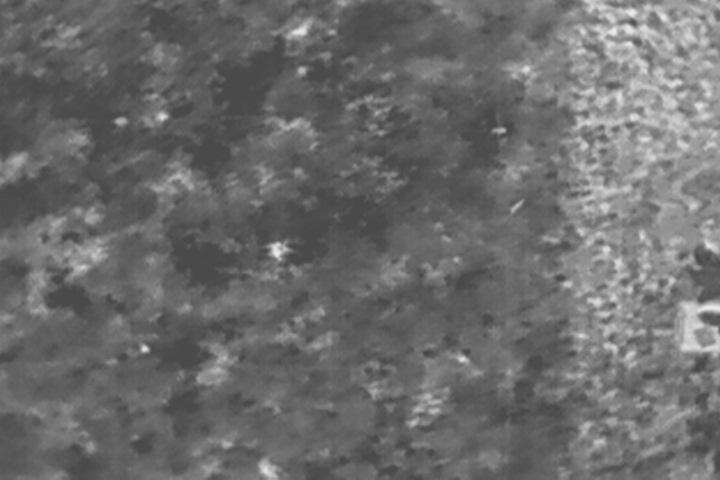landmine: (267, 239, 293, 264)
